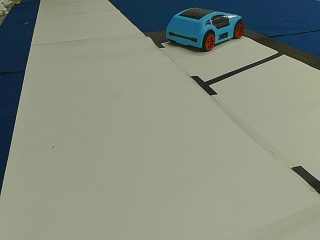car: (165, 8, 243, 51)
